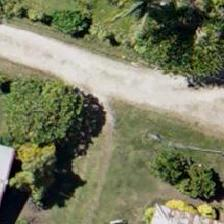Kelapa_Sawit: (90, 0, 180, 48)
